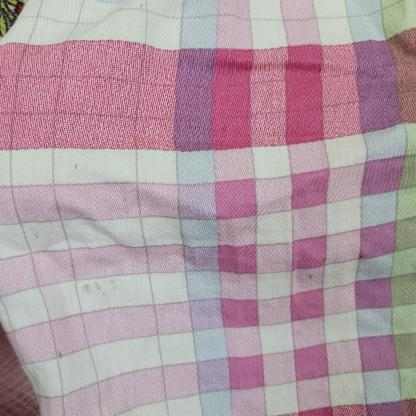spot: (94, 280, 108, 298), (81, 283, 95, 297), (106, 276, 118, 292), (305, 272, 320, 281), (56, 348, 66, 360), (136, 0, 146, 11), (73, 161, 82, 171), (357, 252, 367, 261), (32, 232, 42, 240)
